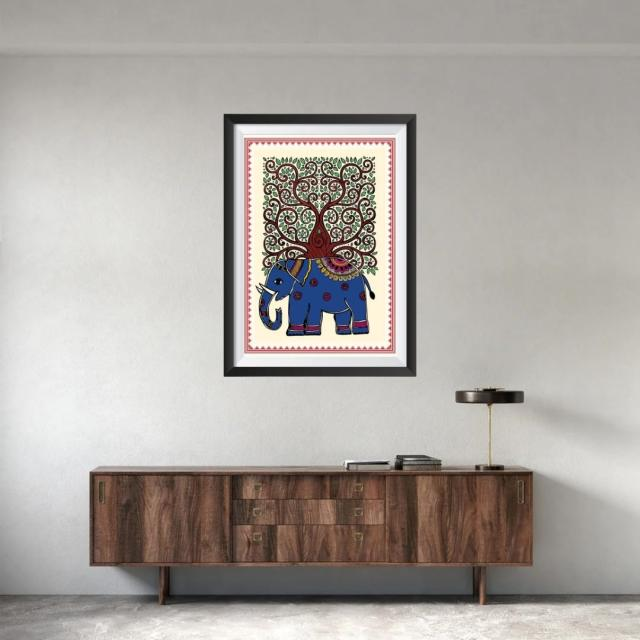painting: (223, 113, 417, 375)
